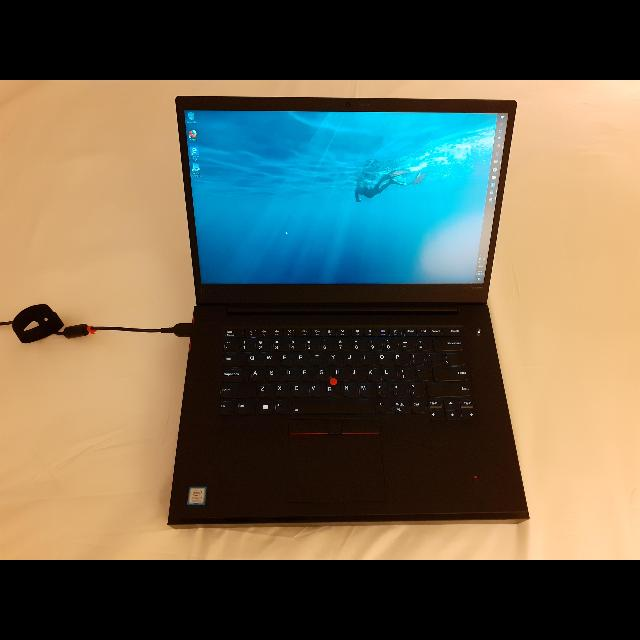Laptop: (165, 93, 540, 537)
